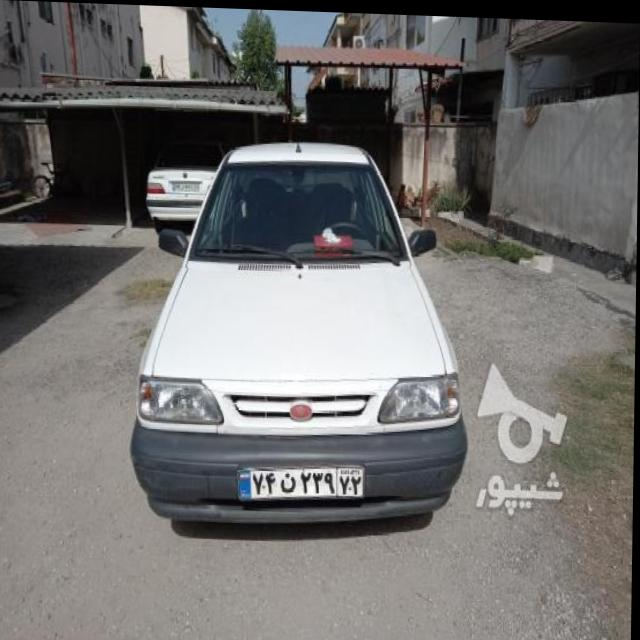licence: (238, 464, 363, 497), (172, 177, 198, 186)
